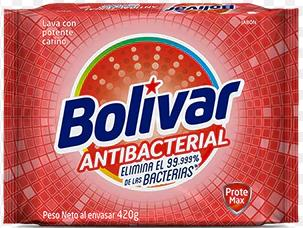brand: (50, 64, 250, 154)
net_weight: (117, 205, 145, 222)
product_name: (72, 127, 232, 174)
